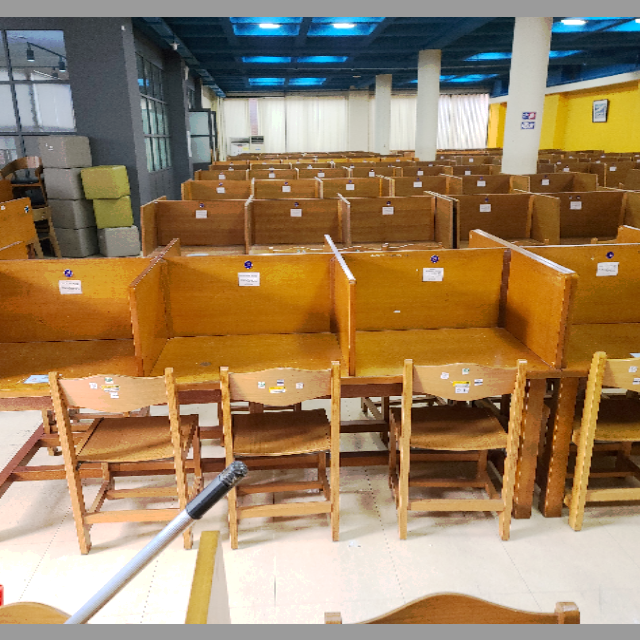empty: (144, 242, 361, 454), (363, 237, 557, 434), (1, 229, 138, 473)
